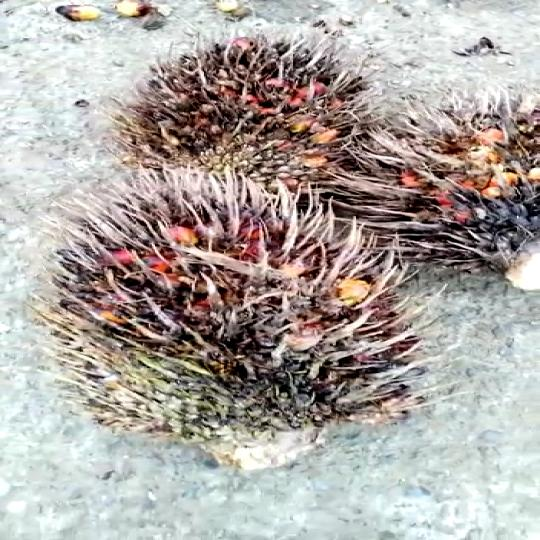terlalu masak: (20, 187, 386, 450), (338, 112, 540, 281), (119, 50, 377, 180)
